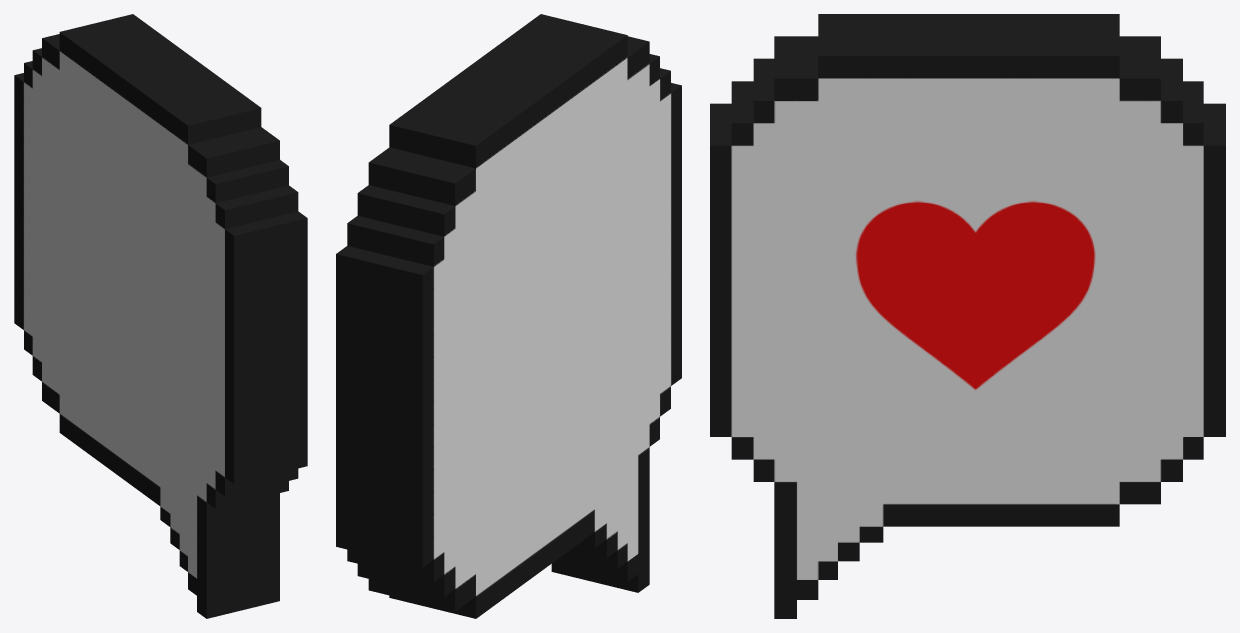
Rendered from heart_speech.glb.
The picture shows the model from 3 angles, left to right: view 1: azimuth 30°, elevation 25°; view 2: azimuth 150°, elevation 25°; view 3: azimuth 270°, elevation 25°; orthographic projection. The views are drawn at different scales.
Parts seen in each view (by area): view 1: Pixel_Speech_Bubbles_v4_001; view 2: Pixel_Speech_Bubbles_v4_001; view 3: Pixel_Speech_Bubbles_v4_001.
Boxes of the visible parts, x1,y1,x2,y2 form: Pixel_Speech_Bubbles_v4_001: (14,14,307,618); Pixel_Speech_Bubbles_v4_001: (336,14,681,618); Pixel_Speech_Bubbles_v4_001: (710,14,1225,618).
Bounding box in the file's own units: 0.00854 × 0.0532 × 0.0442.
1 material, 1 textured.
